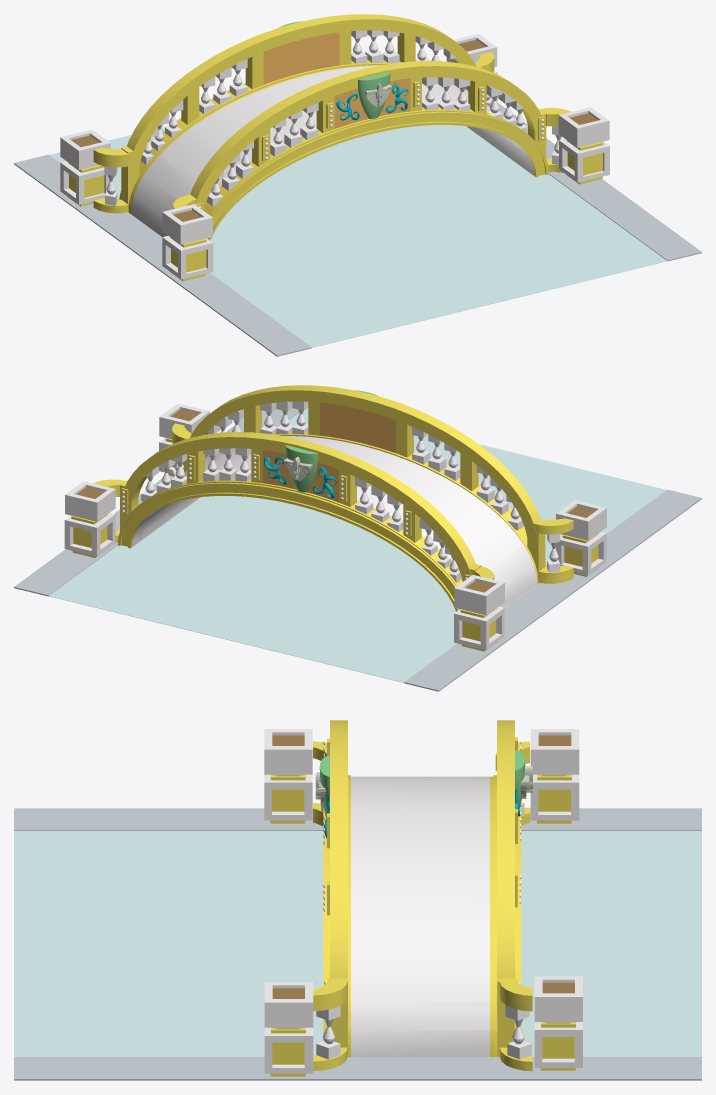
File: ponte-carcavelos.glb
3 views of the same model, one above another, from view 1: azimuth 30°, elevation 25°; view 2: azimuth 150°, elevation 25°; view 3: azimuth 270°, elevation 25° (orthographic). The views are drawn at different scales.
Parts seen in each view (by area): view 1: Object_2; view 2: Object_2; view 3: Object_2.
Boxes of the visible parts, x1,y1,x2,y2 form: Object_2: (14, 14, 701, 356); Object_2: (14, 385, 701, 691); Object_2: (14, 720, 701, 1080).
Bounding box in the file's own units: 186 × 59.01 × 198.
Materials: 1 (1 with a texture image).
